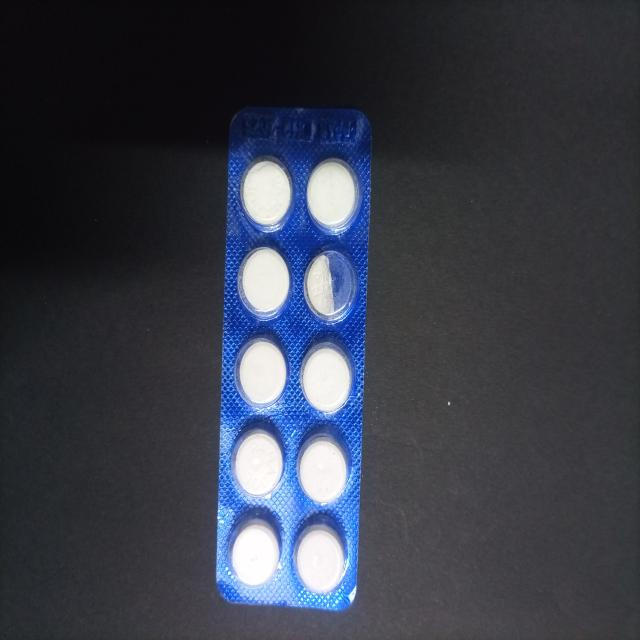defect: (301, 246, 360, 328)
